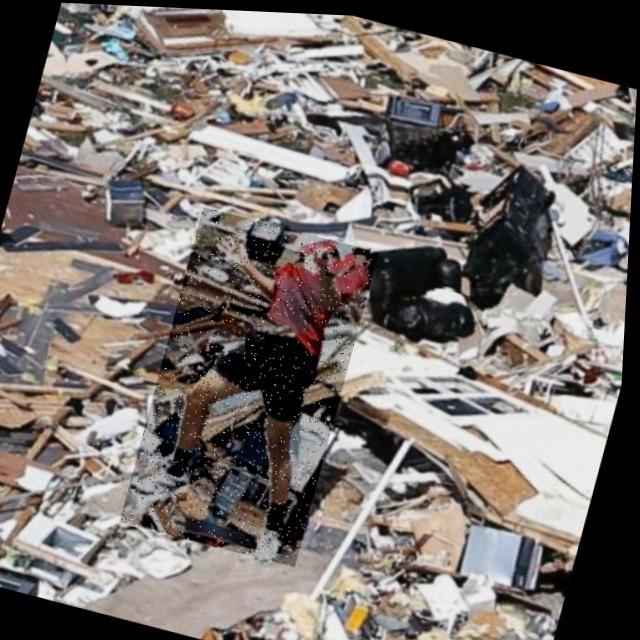Person in Rubble: (123, 202, 382, 567)
